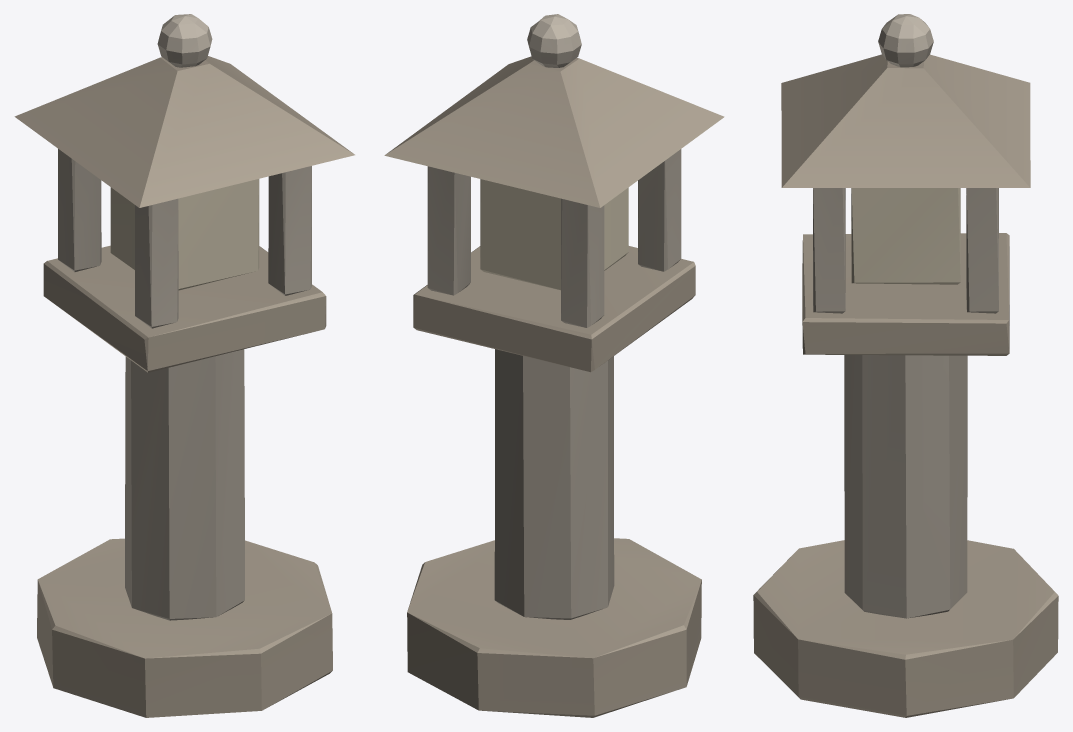
Rendered from lantern_stone_low.glb.
The picture shows the model from 3 angles, left to right: view 1: azimuth 30°, elevation 25°; view 2: azimuth 150°, elevation 25°; view 3: azimuth 270°, elevation 25°; orthographic projection.
Bounding box in the file's own units: 0.4372 × 1.01 × 0.4372.
